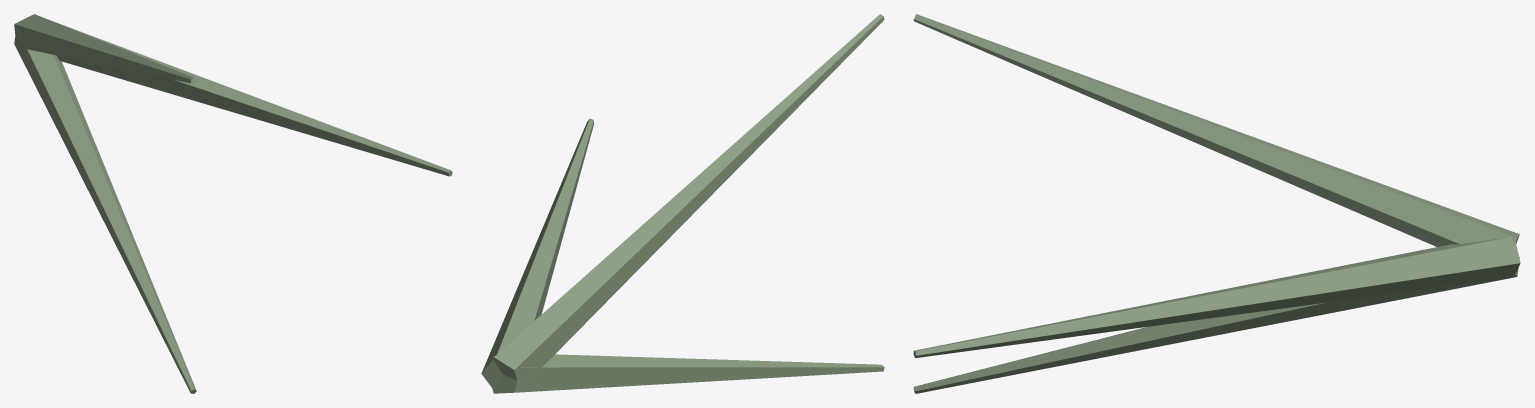
File: FOREST_FERN_MODULE.glb
The picture shows the model from 3 angles, left to right: view 1: azimuth 30°, elevation 25°; view 2: azimuth 150°, elevation 25°; view 3: azimuth 270°, elevation 25°; orthographic projection. The views are drawn at different scales.
Visible parts, largest first — view 1: FOREST_FERN_MODULE; view 2: FOREST_FERN_MODULE; view 3: FOREST_FERN_MODULE.
Boxes of the visible parts, x1,y1,x2,y2 form: FOREST_FERN_MODULE: [14, 14, 452, 393]; FOREST_FERN_MODULE: [481, 14, 884, 393]; FOREST_FERN_MODULE: [913, 14, 1520, 393].
Bounding box in the file's own units: 0.5356 × 0.617 × 0.8951.
